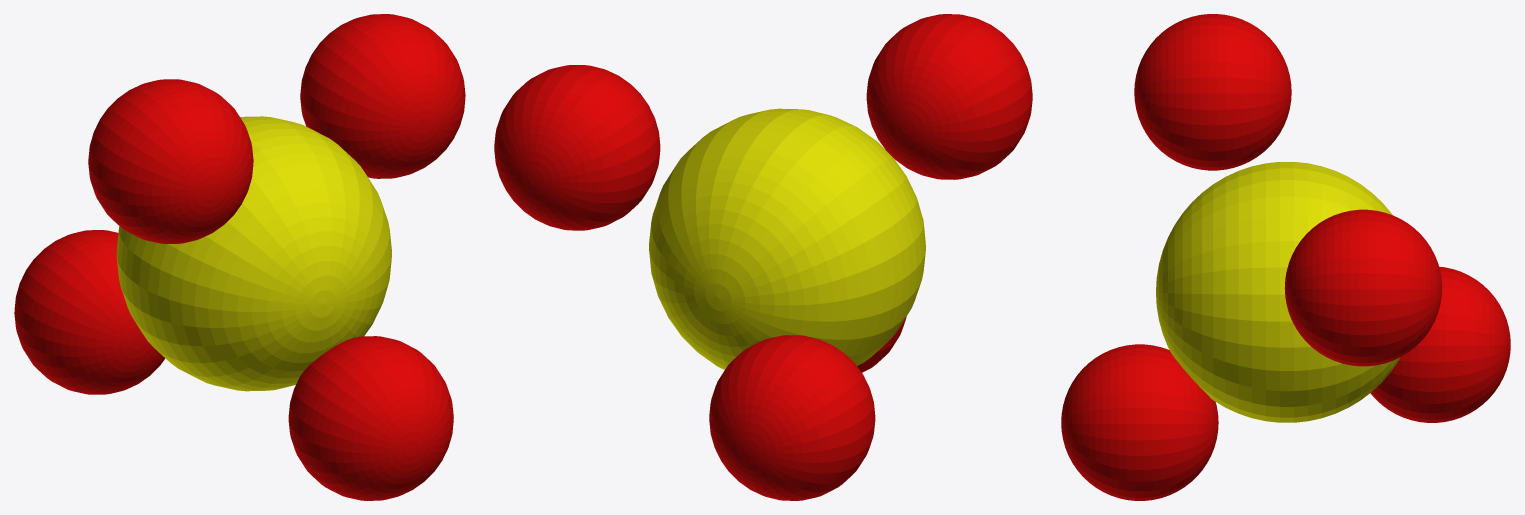
Rendered from Sodium Sulfate.glb.
The picture shows the model from 3 angles, left to right: view 1: azimuth 30°, elevation 25°; view 2: azimuth 150°, elevation 25°; view 3: azimuth 270°, elevation 25°; orthographic projection. The views are drawn at different scales.
Visible parts, largest first — view 1: world; view 2: world; view 3: world.
Part boxes in pixels (left/top/right/bottom): world: left=14, top=14, right=465, bottom=500; world: left=494, top=14, right=1032, bottom=500; world: left=1061, top=14, right=1510, bottom=500.
Bounding box in the file's own units: 3.64 × 3.34 × 3.43.
